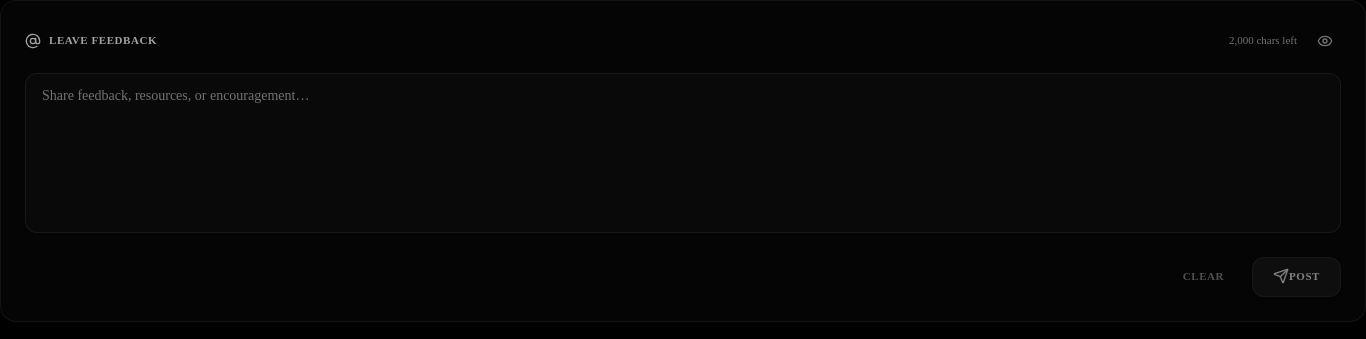
it: CommentInput › toggles preview mode
Click the button named "preview" at (1325, 41), box x1=1309 y1=25 x2=1341 y2=57
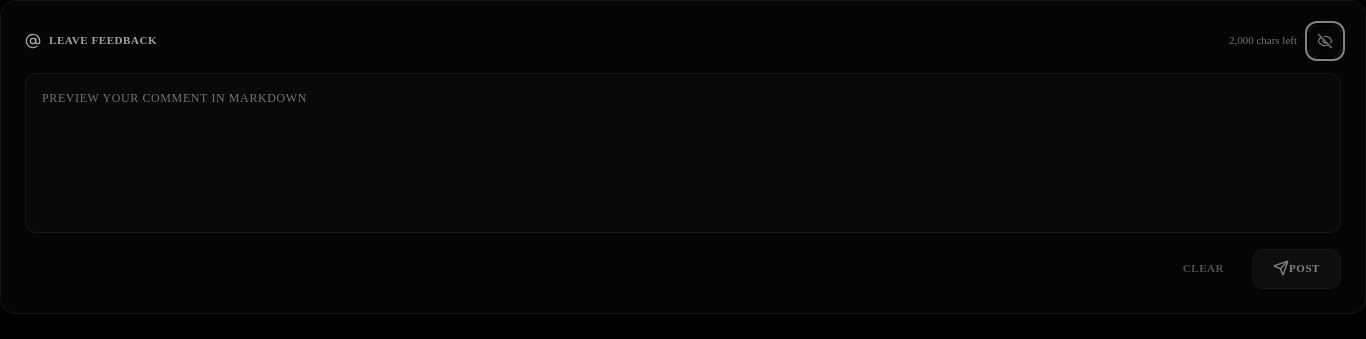
Expected: the text "Preview your comment in markdown" is shown, x1=42 y1=91 x2=307 y2=105
